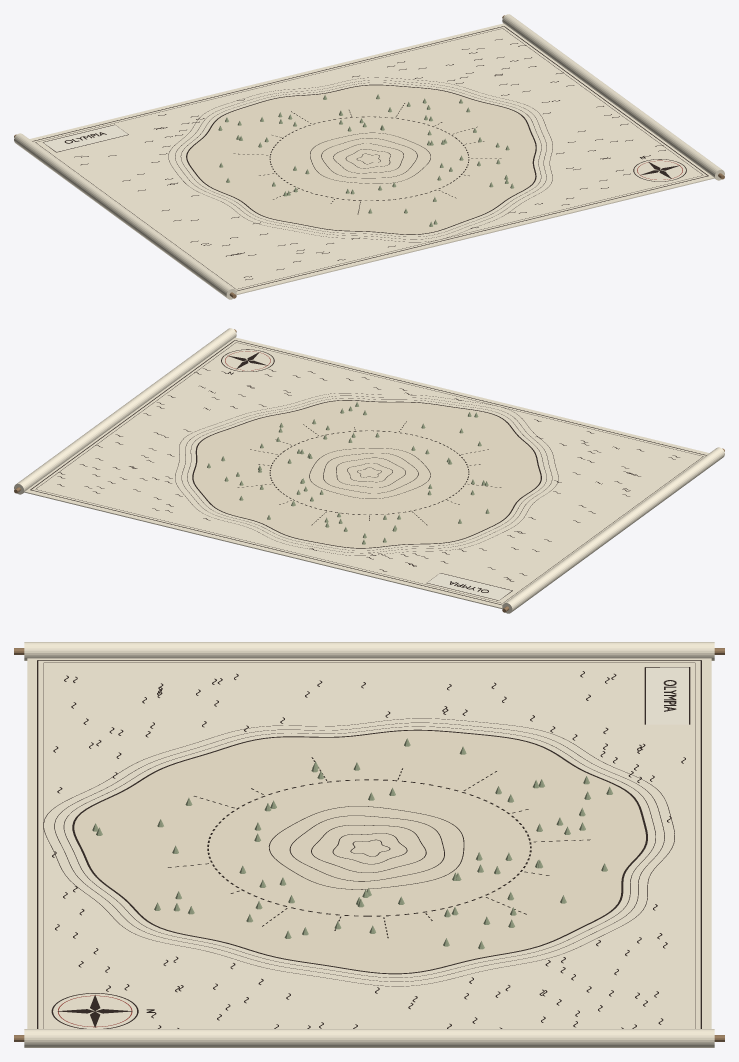
The model's file is seachart.glb.
3 views of the same model, one above another, from view 1: azimuth 30°, elevation 25°; view 2: azimuth 150°, elevation 25°; view 3: azimuth 270°, elevation 25° (orthographic). The views are drawn at different scales.
Parts seen in each view (by area): view 1: flat-sheet, flat-land, roll, roll.001, flat-ink, flat-cartouche, flat-line.001, flat-line, flat-ripple.001, flat-ripple.002, flat-ripple; view 2: flat-sheet, flat-land, roll, roll.001, flat-ink, flat-cartouche, flat-line, flat-ripple.002, flat-line.001, flat-ripple, flat-ripple.001; view 3: flat-sheet, flat-land, roll.001, roll, flat-ink, flat-cartouche, flat-ripple.002, flat-ripple.001, flat-ripple, flat-line, flat-line.001, flat-line.002 (+1 smaller).
Boxes of the visible parts, x1,y1,x2,y2 form: flat-sheet: (29, 23, 714, 295); flat-land: (187, 85, 535, 234); roll: (14, 133, 236, 299); roll.001: (502, 14, 724, 180); flat-ink: (186, 84, 536, 234); flat-cartouche: (43, 125, 127, 151); flat-line.001: (32, 26, 503, 141); flat-line: (236, 176, 708, 291); flat-ripple.001: (175, 80, 546, 239); flat-ripple.002: (168, 77, 552, 242); flat-ripple: (180, 82, 541, 236); flat-sheet: (24, 337, 709, 609); flat-land: (193, 400, 540, 547); roll: (502, 447, 724, 613); roll.001: (14, 328, 236, 494); flat-ink: (192, 400, 541, 548); flat-cartouche: (427, 573, 511, 600); flat-line: (235, 340, 706, 455); flat-ripple.002: (175, 393, 558, 555); flat-line.001: (30, 490, 502, 605); flat-ripple: (187, 398, 546, 550); flat-ripple.001: (181, 395, 552, 553); flat-sheet: (27, 658, 711, 1028); flat-land: (74, 730, 645, 973); roll.001: (24, 1029, 714, 1047); roll: (24, 642, 714, 660); flat-ink: (72, 729, 647, 974); flat-cartouche: (646, 667, 688, 724); flat-ripple.002: (43, 718, 674, 986); flat-ripple.001: (54, 722, 664, 981); flat-ripple: (63, 726, 655, 977); flat-line: (37, 660, 38, 1028); flat-line.001: (700, 660, 701, 1028); flat-line.002: (38, 660, 700, 660).
Size of the model in its own units: 108 by 2.18 by 81.94.
